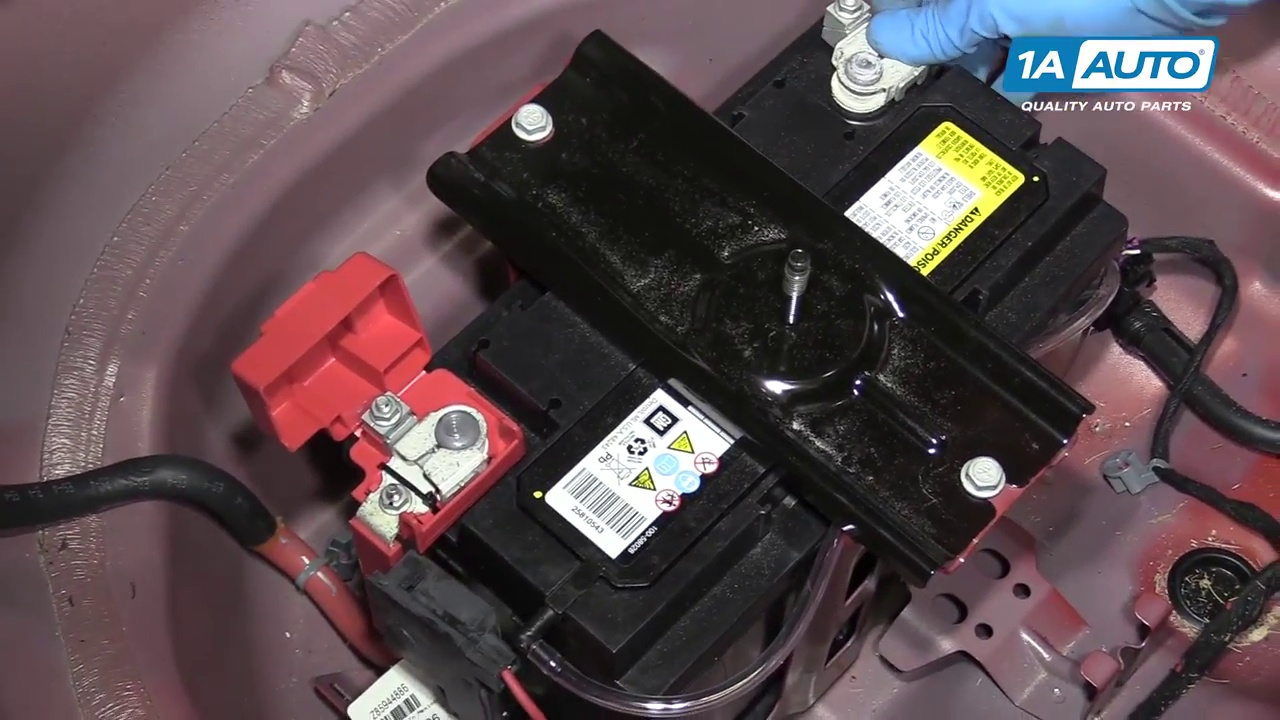battery: (365, 9, 1115, 677)
neg_touched: (794, 1, 1015, 126)
pos_connected: (195, 299, 518, 569)
